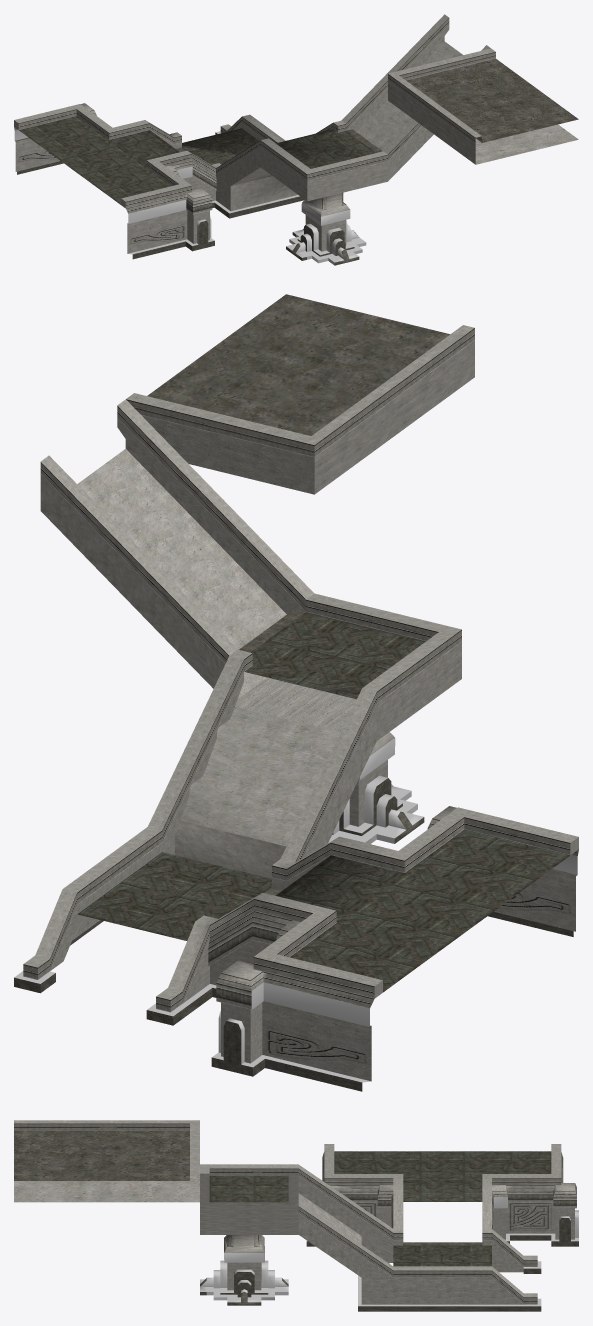
The model's file is DWARF_PALACE_FORGE_STAIRSC.obj.
3 views of the same model, one above another, from view 1: azimuth 30°, elevation 25°; view 2: azimuth 150°, elevation 25°; view 3: azimuth 270°, elevation 25° (orthographic). The views are drawn at different scales.
Visible parts, largest first — view 1: forge_stairsC; view 2: forge_stairsC; view 3: forge_stairsC.
Part boxes in pixels (left/top/right/bottom): forge_stairsC: left=14, top=14, right=578, bottom=265; forge_stairsC: left=14, top=294, right=578, bottom=1091; forge_stairsC: left=14, top=1120, right=578, bottom=1311.
Size of the model in its own units: 1900 by 1060 by 2862.
